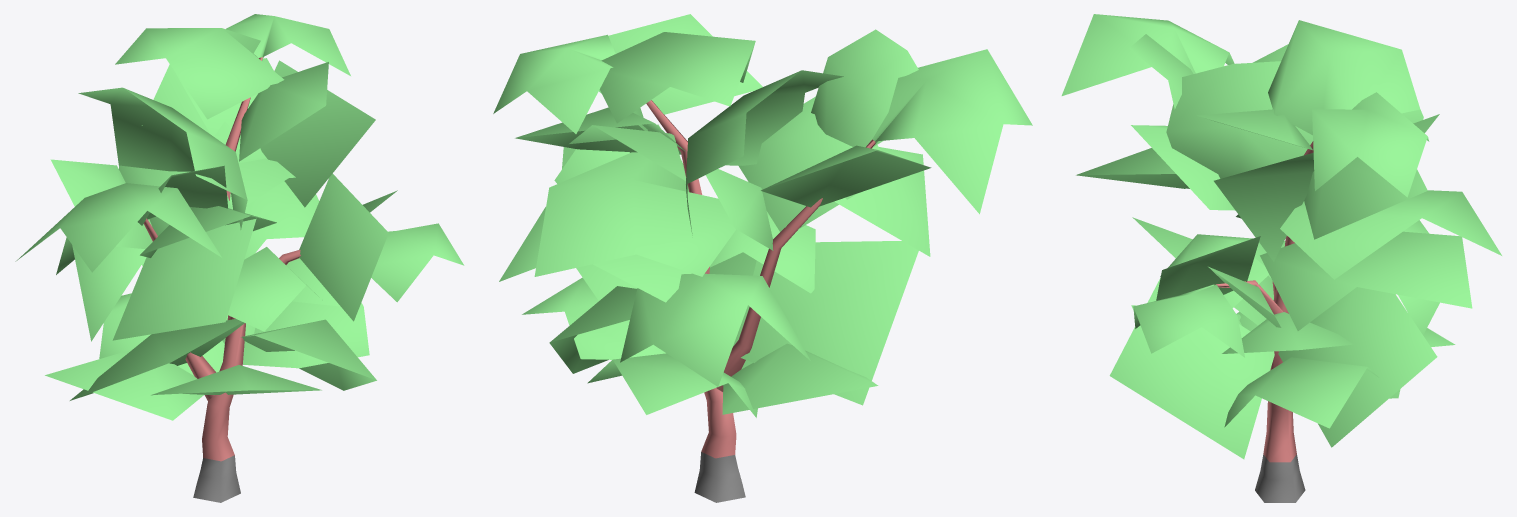
Rendered from Oren_elf_tree13.gltf.
3 renders of one model, left to right at view 1: azimuth 30°, elevation 25°; view 2: azimuth 150°, elevation 25°; view 3: azimuth 270°, elevation 25°, orthographic. The views are drawn at different scales.
Parts seen in each view (by area): view 1: Oren_elf_tree13; view 2: Oren_elf_tree13; view 3: Oren_elf_tree13.
Part boxes in pixels (<box>): Oren_elf_tree13: <box>15,14,464,502</box>; Oren_elf_tree13: <box>493,14,1032,502</box>; Oren_elf_tree13: <box>1061,14,1501,502</box>.
Size of the model in its own units: 6.93 by 7.14 by 6.26.
